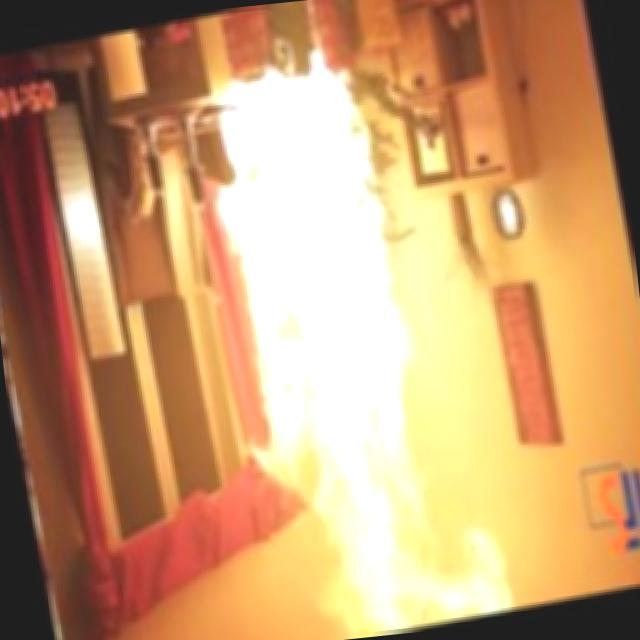fire: (169, 37, 538, 640)
